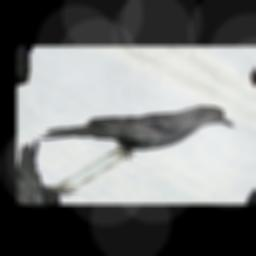Crow: (35, 67, 245, 192)
